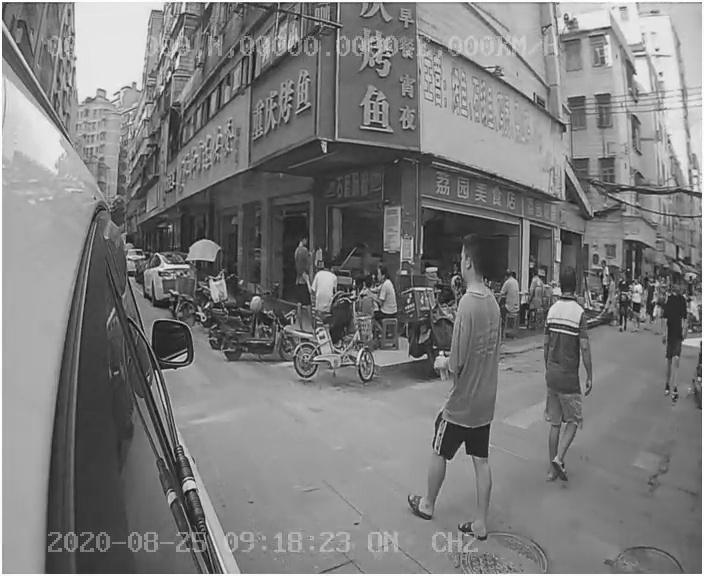person: (396, 233, 525, 537)
